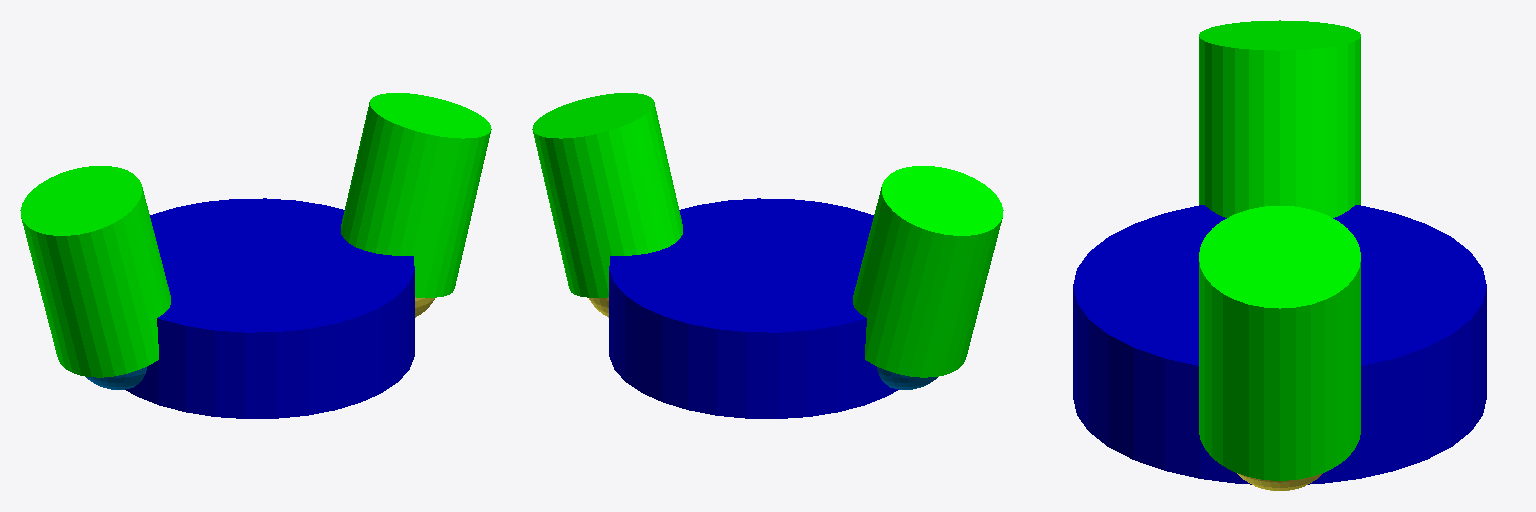
URDF robot description (gripper_2f_1j):
<?xml version='1.0' encoding='UTF-8'?>
<robot name="gripper_2f_1j">
  <link name="palm">
    <inertial>
      <origin xyz="0.0 0.0 0.0" rpy="0.0 -0.0 0.0"/>
      <mass value="1.0"/>
      <inertia ixx="1.0" ixy="0.0" ixz="0.0" iyy="1.0" iyz="0.0" izz="1.0"/>
    </inertial>
    <visual>
      <geometry>
        <cylinder radius="0.05" length="0.03"/>
      </geometry>
      <material name="blue"/>
      <origin xyz="0.0 0.0 0.0" rpy="0.0 -0.0 0.0"/>
    </visual>
    <collision>
      <geometry>
        <cylinder radius="0.05" length="0.03"/>
      </geometry>
      <origin xyz="0.0 0.0 0.0" rpy="0.0 0.0 0.0"/>
    </collision>
  </link>
  <link name="f11">
    <inertial>
      <origin xyz="0.0 0.0 0.0" rpy="0.0 -0.0 0.0"/>
      <mass value="1.0"/>
      <inertia ixx="1.0" ixy="0.0" ixz="0.0" iyy="1.0" iyz="0.0" izz="1.0"/>
    </inertial>
    <visual>
      <geometry>
        <cylinder radius="0.019643981786457196" length="0.053865779561189736"/>
      </geometry>
      <material name="green"/>
      <origin xyz="0.0 0.0 0.026932889780594868" rpy="0.0 -0.0 0.0"/>
    </visual>
    <collision>
      <geometry>
        <cylinder radius="0.019643981786457196" length="0.053865779561189736"/>
      </geometry>
      <origin xyz="0.0 0.0 0.05" rpy="0.0 0.0 0.0"/>
    </collision>
  </link>
  <link name="f21">
    <inertial>
      <origin xyz="0.0 0.0 0.0" rpy="0.0 -0.0 0.0"/>
      <mass value="1.0"/>
      <inertia ixx="1.0" ixy="0.0" ixz="0.0" iyy="1.0" iyz="0.0" izz="1.0"/>
    </inertial>
    <visual>
      <geometry>
        <cylinder radius="0.019643981786457196" length="0.053865779561189736"/>
      </geometry>
      <material name="green"/>
      <origin xyz="0.0 0.0 0.026932889780594868" rpy="0.0 -0.0 0.0"/>
    </visual>
    <collision>
      <geometry>
        <cylinder radius="0.019643981786457196" length="0.053865779561189736"/>
      </geometry>
      <origin xyz="0.0 0.0 0.05" rpy="0.0 0.0 0.0"/>
    </collision>
  </link>
  <link name="f11_base">
    <inertial>
      <origin xyz="0.0 0.0 0.0" rpy="0.0 -0.0 0.0"/>
      <mass value="1.0"/>
      <inertia ixx="1.0" ixy="0.0" ixz="0.0" iyy="1.0" iyz="0.0" izz="1.0"/>
    </inertial>
    <visual>
      <geometry>
        <sphere radius="0.015"/>
      </geometry>
      <origin xyz="0.0 0.0 0.0" rpy="0.0 -0.0 0.0"/>
    </visual>
  </link>
  <link name="f21_base">
    <inertial>
      <origin xyz="0.0 0.0 0.0" rpy="0.0 -0.0 0.0"/>
      <mass value="1.0"/>
      <inertia ixx="1.0" ixy="0.0" ixz="0.0" iyy="1.0" iyz="0.0" izz="1.0"/>
    </inertial>
    <visual>
      <geometry>
        <sphere radius="0.015"/>
      </geometry>
      <origin xyz="0.0 0.0 0.0" rpy="0.0 -0.0 0.0"/>
    </visual>
  </link>
  <joint name="f11_joint" type="revolute">
    <dynamics damping="100.0" friction="1.0"/>
    <limit effort="30.0" velocity="2.0" lower="-0.6" upper="0.25"/>
    <parent link="f11_base"/>
    <child link="f11"/>
    <axis xyz="0. 1. 0."/>
    <origin xyz="0.0 0.0 0.0" rpy="0.0 0.25 0.0"/>
  </joint>
  <joint name="f21_joint" type="revolute">
    <dynamics damping="100.0" friction="1.0"/>
    <limit effort="30.0" velocity="2.0" lower="-0.6" upper="0.25"/>
    <parent link="f21_base"/>
    <child link="f21"/>
    <axis xyz=" 0. -1.  0."/>
    <origin xyz="0.0 0.0 0.0" rpy="0.0 -0.25 0.0"/>
  </joint>
  <joint name="f11_base_joint" type="fixed">
    <parent link="palm"/>
    <child link="f11_base"/>
    <axis xyz="1. 0. 0."/>
    <origin xyz="0.05 0.0 0.0" rpy="0.0 0.0 0.0"/>
  </joint>
  <joint name="f21_base_joint" type="fixed">
    <parent link="palm"/>
    <child link="f21_base"/>
    <axis xyz="1. 0. 0."/>
    <origin xyz="-0.05 -0.0 0.0" rpy="0.0 0.0 0.0"/>
  </joint>
  <material name="blue">
    <color rgba="0.  0.  0.8 1. "/>
  </material>
  <material name="green">
    <color rgba="0. 1. 0. 1."/>
  </material>
</robot>

--- Facts derived from the render (not from the file) ---
Views: 3 orthographic renders of the robot side by side, from view 1: azimuth 30°, elevation 25°; view 2: azimuth 150°, elevation 25°; view 3: azimuth 270°, elevation 25°.
Model gripper_2f_1j with 5 links and 4 joints (2 revolute, 2 fixed), rooted at palm, posed every joint at zero.
Links seen in each view (by area): view 1: palm, f21, f11, f21_base; view 2: palm, f21, f11, f21_base; view 3: palm, f11, f21, f11_base.
Link boxes in pixels (box(x1,y1,x2,y2)): palm: box(125, 198, 414, 418); f21: box(20, 166, 170, 377); f11: box(341, 93, 491, 297); f21_base: box(86, 366, 147, 389); palm: box(609, 198, 898, 418); f21: box(853, 166, 1003, 377); f11: box(532, 93, 682, 297); f21_base: box(876, 366, 937, 389); palm: box(1073, 205, 1486, 484); f11: box(1199, 206, 1360, 480); f21: box(1199, 20, 1360, 217); f11_base: box(1237, 473, 1322, 490).
Size in the robot's own frame: 0.1647 by 0.1 by 0.0721 metres.
Geometry: primitives only (box / cylinder / sphere), no mesh files.